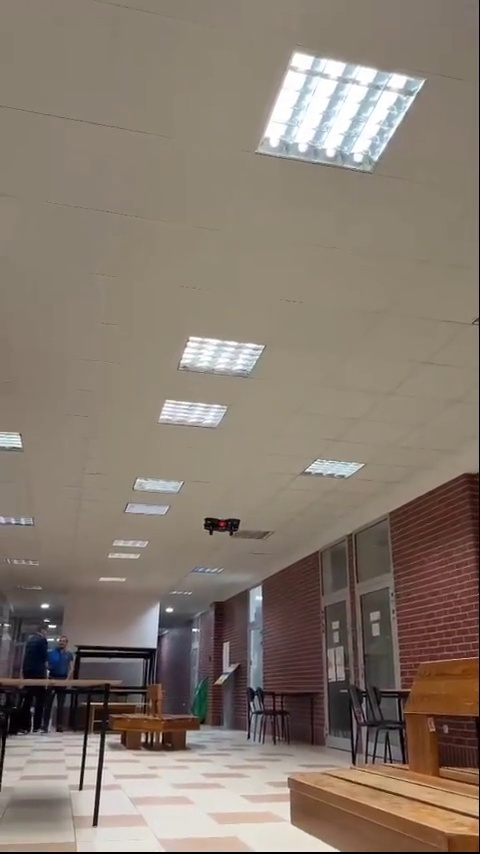drone: (204, 512, 246, 542)
no vest: (14, 623, 50, 728), (51, 638, 75, 742)
